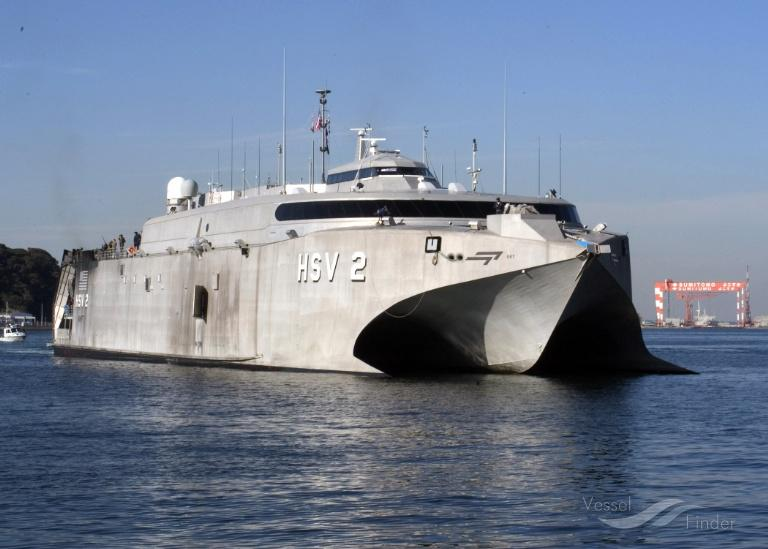OCR: (290, 250, 370, 288)
